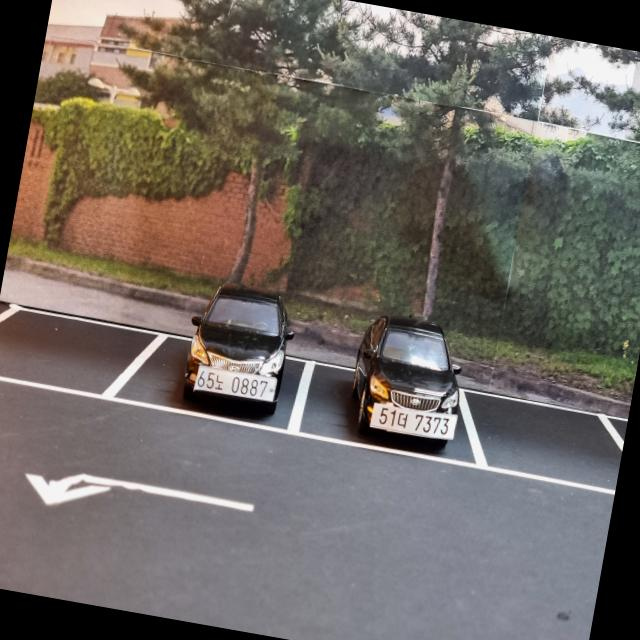car: (141, 257, 323, 439), (309, 300, 492, 452)
free: (466, 384, 629, 497), (0, 296, 152, 410)
